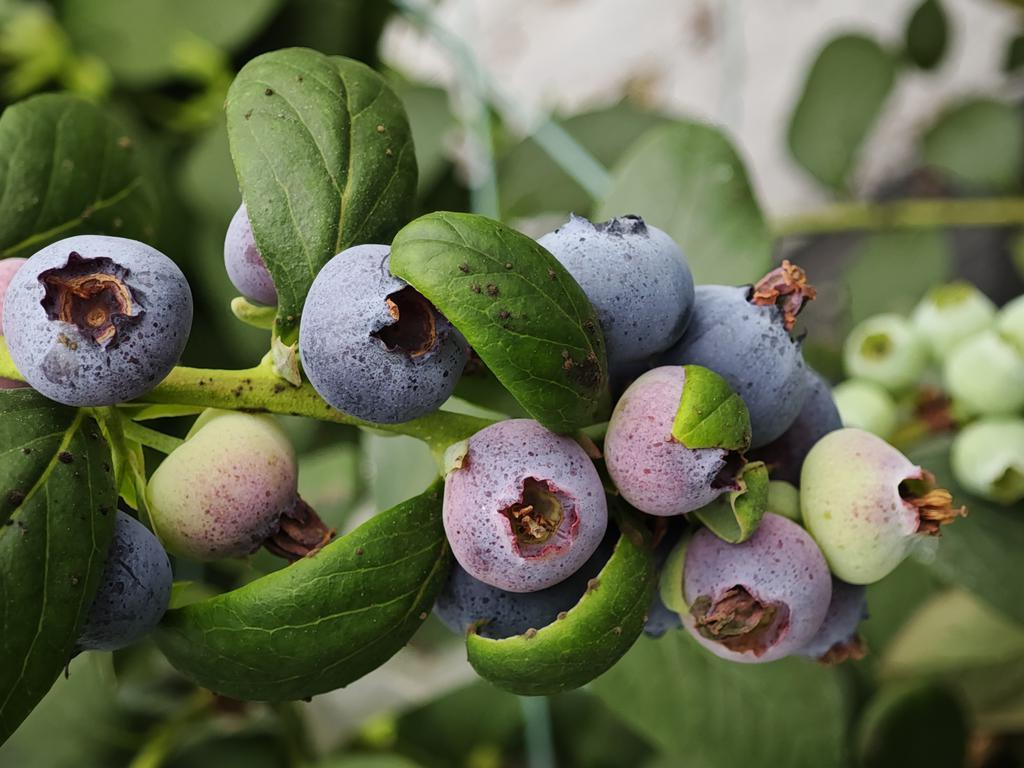RipeBlueBerry: (1, 230, 200, 407), (293, 241, 467, 420)
Semi-RipeBlueBerry: (443, 417, 611, 590)
UnripeBlueBerry: (804, 424, 943, 584)
